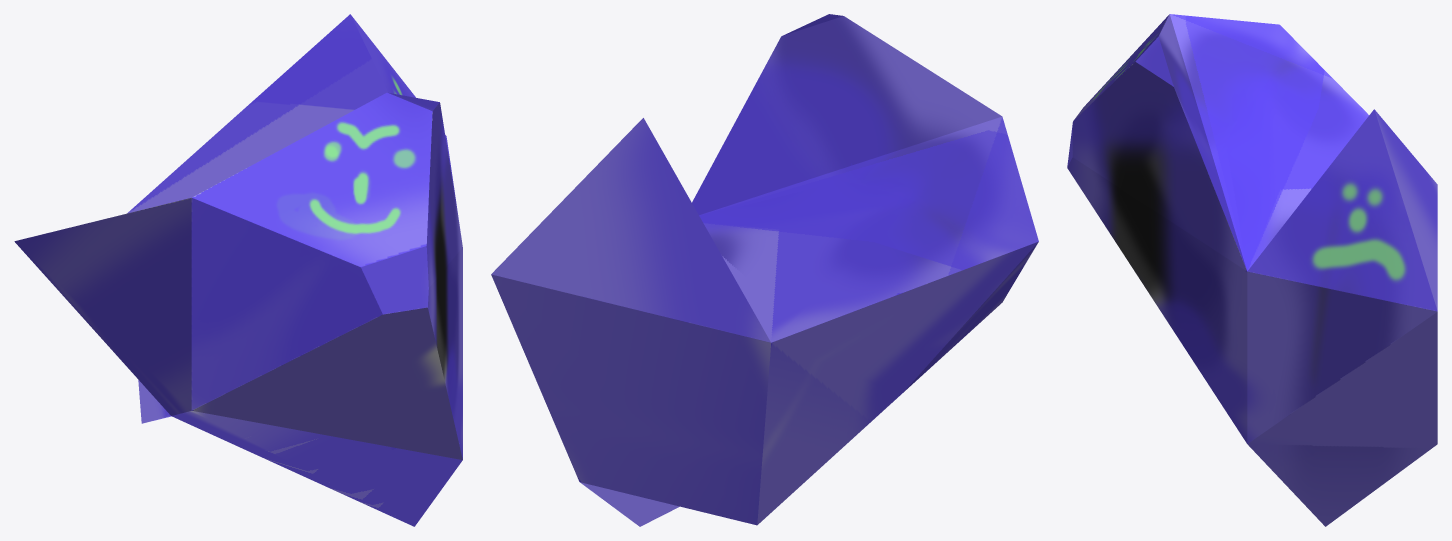
File: boxoid.fbx
3 renders of one model, left to right at view 1: azimuth 30°, elevation 25°; view 2: azimuth 150°, elevation 25°; view 3: azimuth 270°, elevation 25°, orthographic. The views are drawn at different scales.
Visible parts, largest first — view 1: Cube; view 2: Cube; view 3: Cube.
Part boxes in pixels (box(x1,y1,x2,y2)): Cube: box(14, 14, 462, 526); Cube: box(491, 14, 1038, 526); Cube: box(1067, 14, 1437, 526).
Bounding box in the file's own units: 5.21 × 5.08 × 3.89.
Materials: 1 (1 with a texture image).
